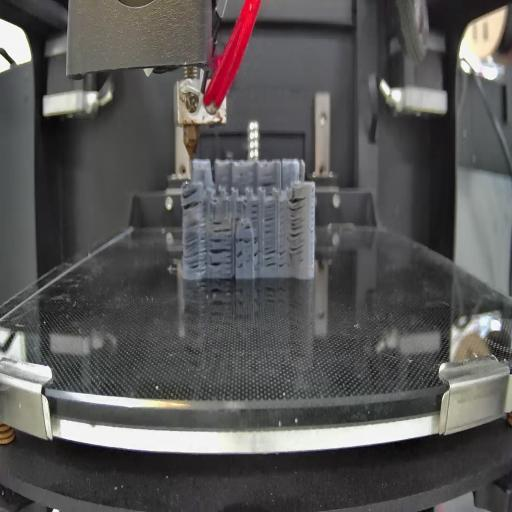cracks: (182, 222, 206, 272), (288, 197, 306, 254), (210, 237, 232, 272), (264, 246, 288, 269), (179, 189, 204, 210), (264, 204, 275, 236), (210, 221, 233, 235), (234, 198, 243, 222), (238, 237, 259, 247), (236, 250, 244, 270), (253, 250, 261, 270), (251, 204, 258, 222), (261, 180, 276, 188), (243, 225, 253, 232)
